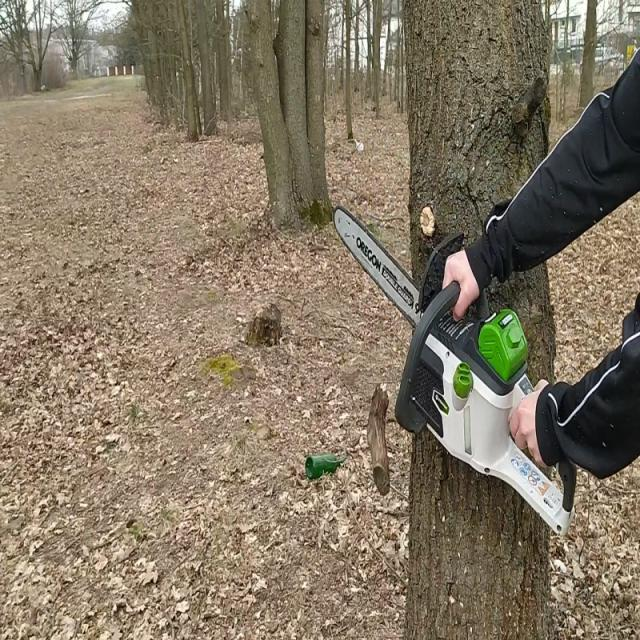Chainsaw: (330, 203, 578, 540)
